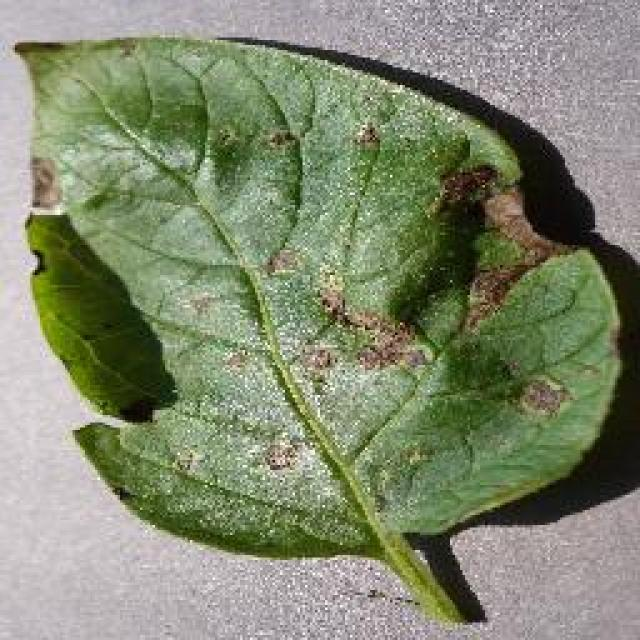early_blight: (10, 30, 628, 625)
